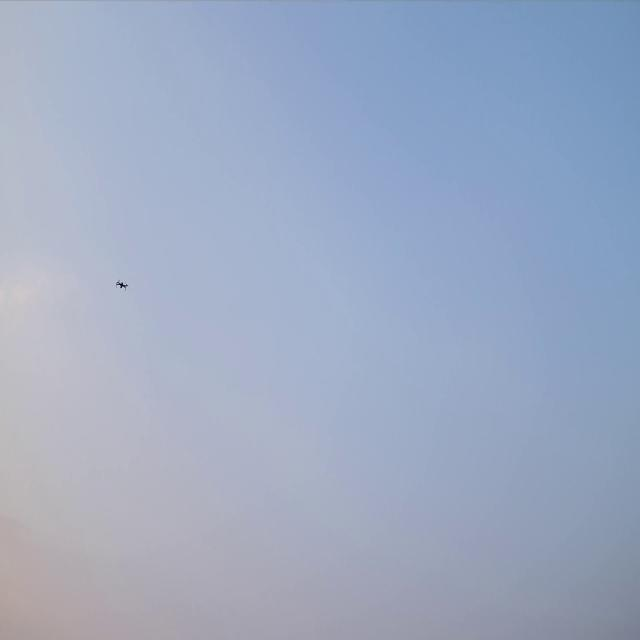UAV: (115, 278, 128, 291)
